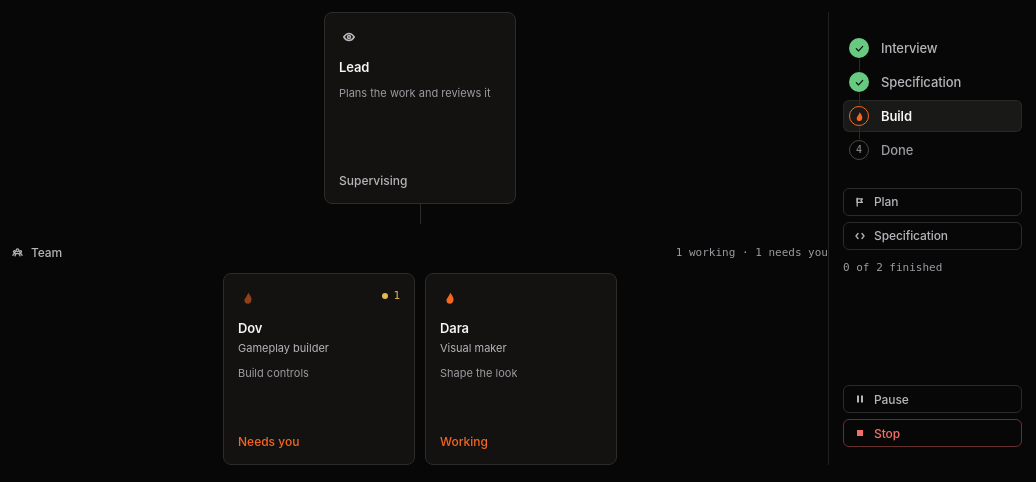
Scenario: DevTeamPane › opens a member over the board, and comes back to where you left
The image size is (1036, 482).
Click the button with aria-label ", Build controls," at (319, 369), box left=223, top=273, right=415, bottom=465
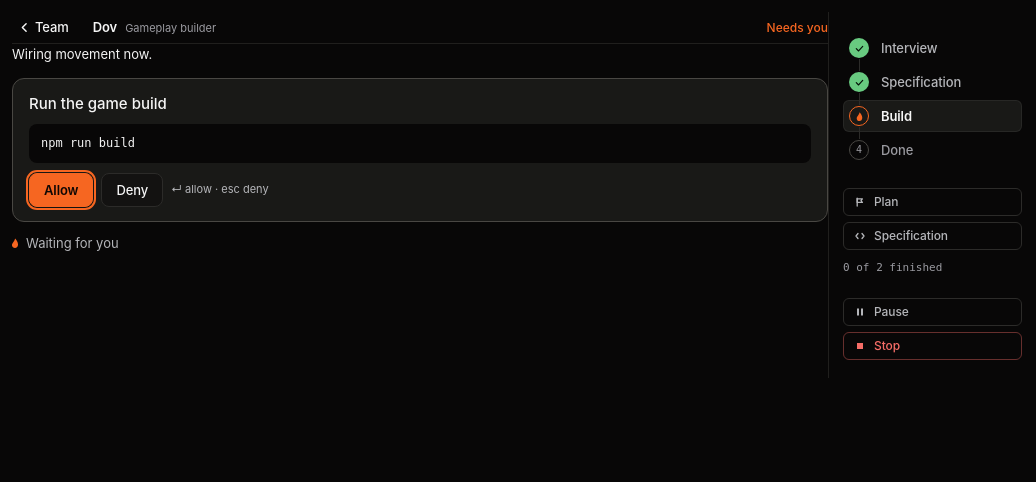
Result: the element named "log" is shown at left=12, top=12, right=828, bottom=378
Result: the text "Wiring movement now." is shown at left=12, top=46, right=152, bottom=62
Click the button with aria-label "Back to the team" at (45, 27), box left=12, top=12, right=79, bottom=43
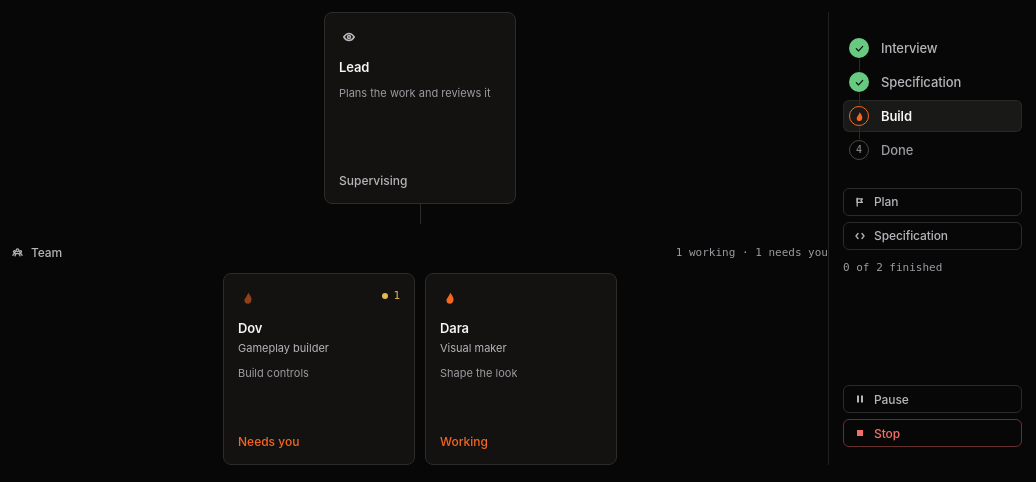
Result: the button with aria-label "Lead, Plans the work" is shown at left=324, top=12, right=516, bottom=204
